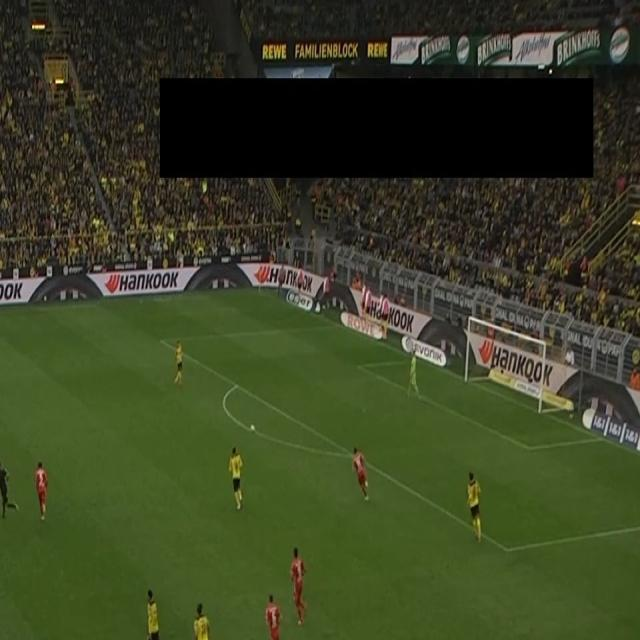ball: (250, 424, 256, 434)
